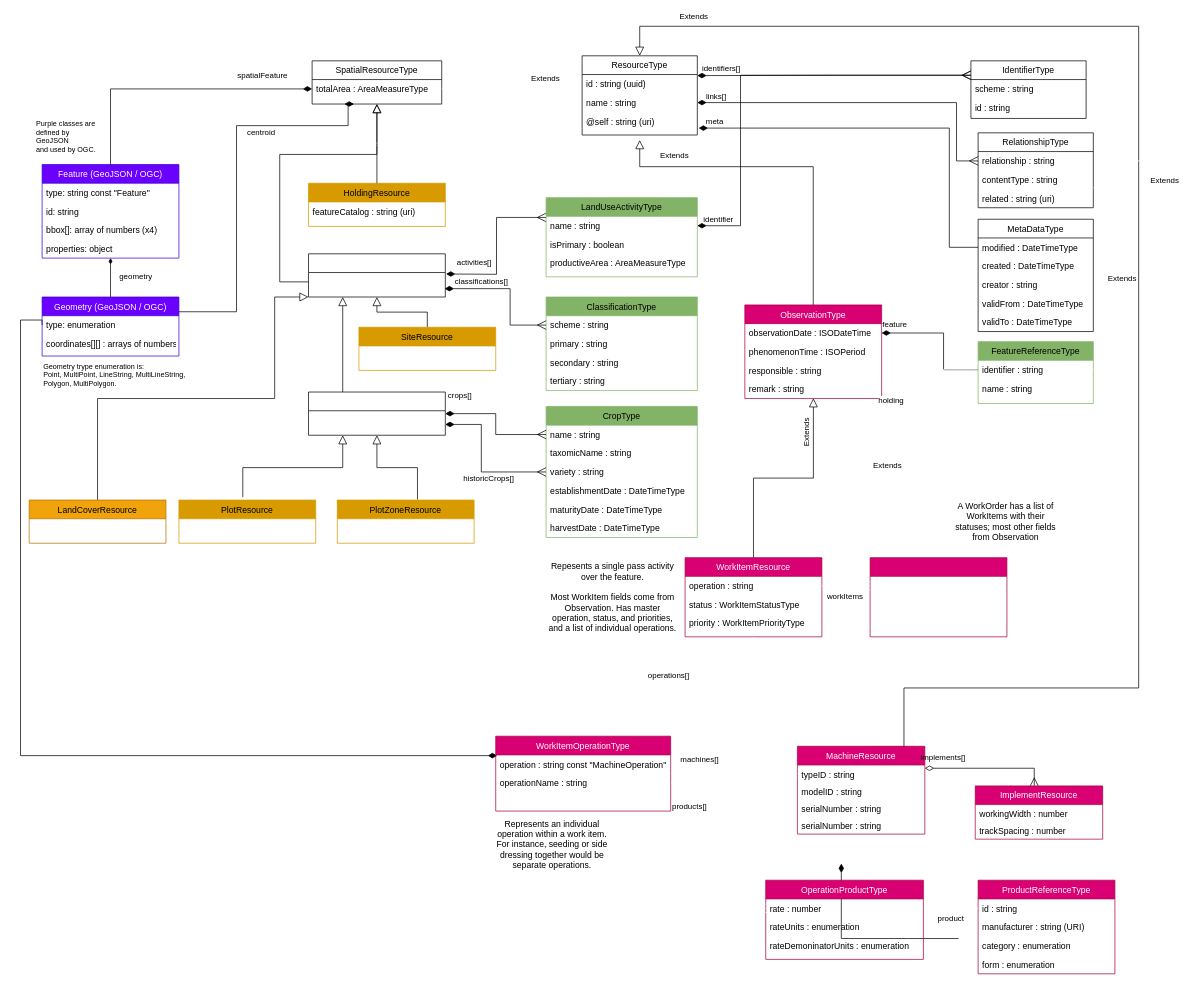
Image size: 1192x989. Some labels were removed from this diagram. Each missing label, with the centre of its shape:
CroppedResourceType: point 376,413
LandUseResourceType: point 376,275
WorkOrderResource: point 938,597
